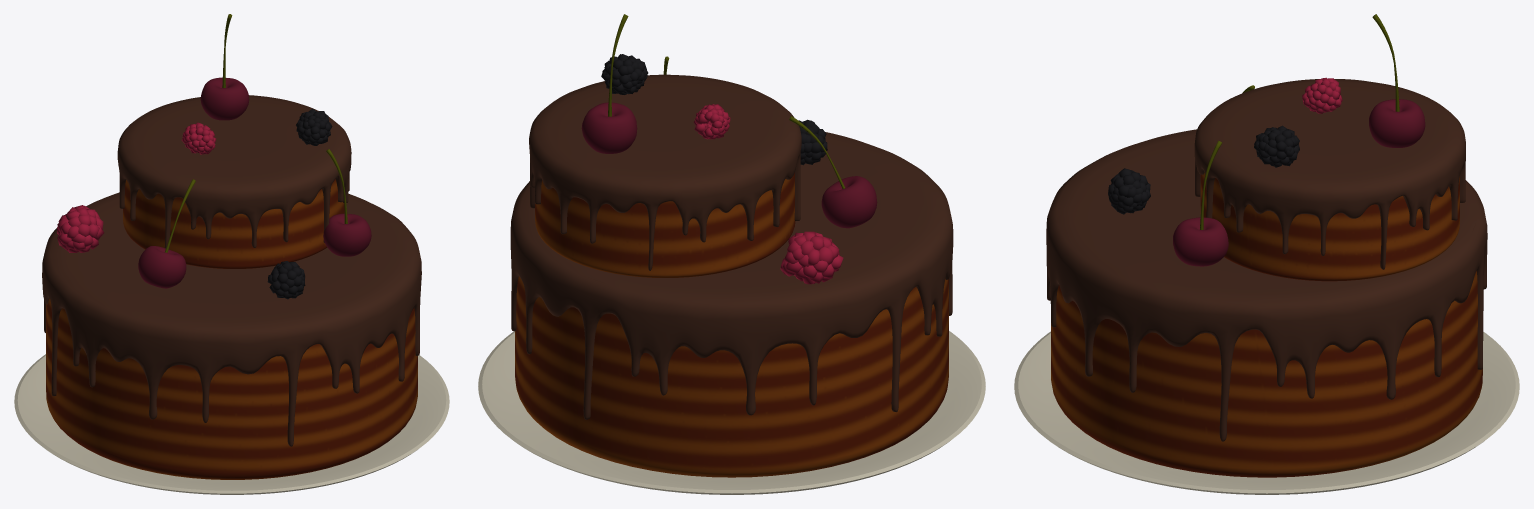
File: chocolate_berry_cake.glb
3 renders of one model, left to right at view 1: azimuth 30°, elevation 25°; view 2: azimuth 150°, elevation 25°; view 3: azimuth 270°, elevation 25°, orthographic. The views are drawn at different scales.
Parts seen in each view (by area): view 1: Choc1_6, CakeBaseBot.001_14, Choc2_7, Circle_0, CakeBaseTop.001_3, rasberry.001_13, Cherry.001_9, Cherry_11, Cherry.002_5, BlackBerrry.002_1, BlackBerrry.065_2, rasberry_12; view 2: CakeBaseBot.001_14, Choc1_6, Choc2_7, Circle_0, CakeBaseTop.001_3, rasberry.001_13, Cherry.001_9, Cherry.002_5, BlackBerrry.065_2, rasberry_12, BlackBerrry.002_1; view 3: CakeBaseBot.001_14, Choc1_6, Choc2_7, Circle_0, CakeBaseTop.001_3, Cherry.001_9, Cherry_11, BlackBerrry.002_1, BlackBerrry.065_2, rasberry_12.
Part boxes in pixels (<box>): Choc1_6: <box>42,192,421,446</box>; CakeBaseBot.001_14: <box>46,299,417,479</box>; Choc2_7: <box>117,95,351,249</box>; Circle_0: <box>14,354,449,494</box>; CakeBaseTop.001_3: <box>123,179,344,268</box>; rasberry.001_13: <box>57,205,104,252</box>; Cherry.001_9: <box>200,77,249,120</box>; Cherry_11: <box>323,213,371,256</box>; Cherry.002_5: <box>138,246,186,288</box>; BlackBerrry.002_1: <box>267,261,305,299</box>; BlackBerrry.065_2: <box>296,108,332,145</box>; rasberry_12: <box>181,122,216,154</box>; CakeBaseBot.001_14: <box>515,276,948,477</box>; Choc1_6: <box>510,132,953,419</box>; Choc2_7: <box>529,74,801,270</box>; Circle_0: <box>478,331,985,494</box>; CakeBaseTop.001_3: <box>535,172,795,277</box>; rasberry.001_13: <box>780,231,843,284</box>; Cherry.001_9: <box>581,102,637,153</box>; Cherry.002_5: <box>821,176,877,228</box>; BlackBerrry.065_2: <box>601,54,648,94</box>; rasberry_12: <box>693,104,730,139</box>; BlackBerrry.002_1: <box>798,119,827,165</box>; CakeBaseBot.001_14: <box>1051,271,1482,477</box>; Choc1_6: <box>1046,129,1487,441</box>; Choc2_7: <box>1194,79,1465,269</box>; Circle_0: <box>1014,331,1519,494</box>; CakeBaseTop.001_3: <box>1200,173,1459,281</box>; Cherry.001_9: <box>1369,99,1425,147</box>; Cherry_11: <box>1173,217,1228,266</box>; BlackBerrry.002_1: <box>1108,168,1150,214</box>; BlackBerrry.065_2: <box>1254,125,1299,167</box>; rasberry_12: <box>1302,77,1342,113</box>.
Size of the model in its own units: 6.83 by 6.19 by 6.83.
7 materials, 2 textured.
